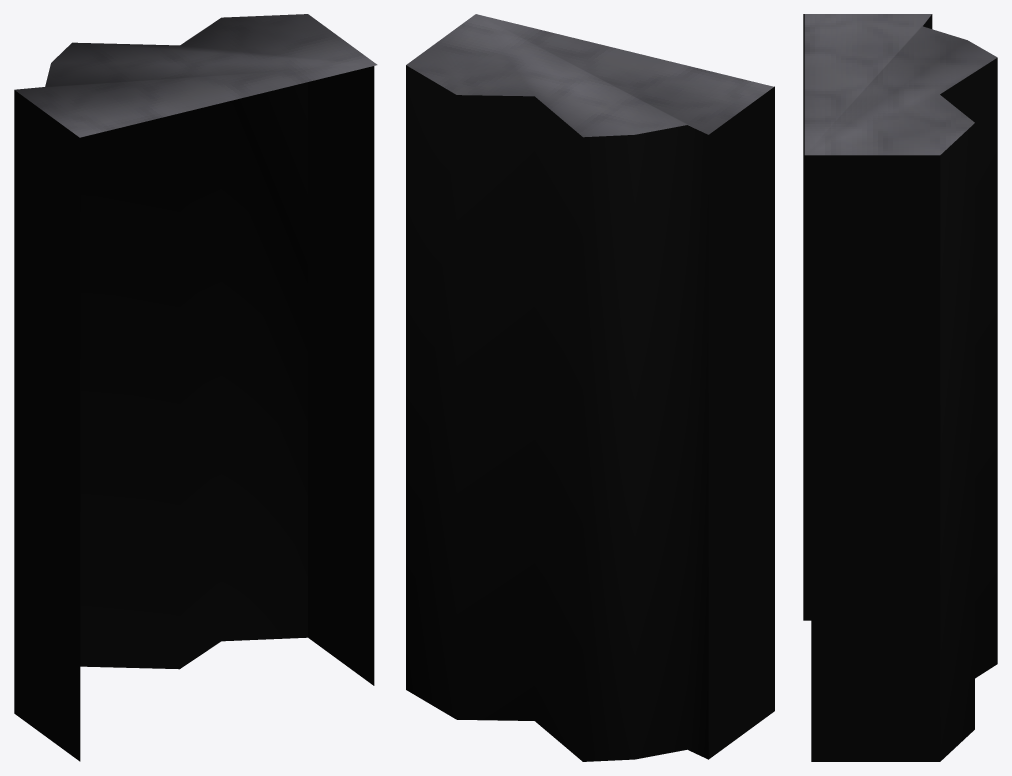
Rendered from hole_4.obj.
3 renders of one model, left to right at view 1: azimuth 30°, elevation 25°; view 2: azimuth 150°, elevation 25°; view 3: azimuth 270°, elevation 25°, orthographic. The views are drawn at different scales.
Visible parts, largest first — view 1: Cube_Cube.020; view 2: Cube_Cube.020; view 3: Cube_Cube.020.
Boxes of the visible parts, x1,y1,x2,y2 form: Cube_Cube.020: [14, 14, 377, 761]; Cube_Cube.020: [406, 14, 774, 761]; Cube_Cube.020: [803, 14, 997, 761].
Bounding box in the file's own units: 4 × 8 × 2.32.
Materials: 2 (1 with a texture image).
